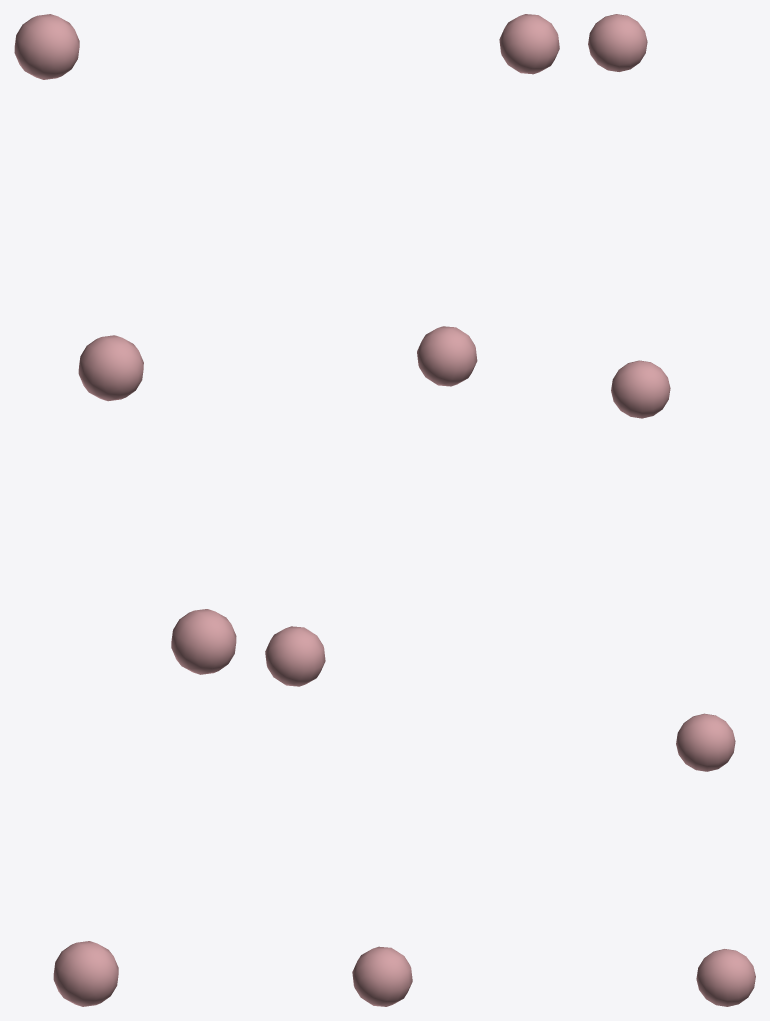
3 renders of one model, left to right at view 1: azimuth 30°, elevation 25°; view 2: azimuth 150°, elevation 25°; view 3: azimuth 270°, elevation 25°, orthographic. The views are drawn at different scales.
Visible parts, largest first — view 1: ZA_7084a7439281b4b4; view 2: ZA_7084a7439281b4b4; view 3: ZA_7084a7439281b4b4.
Boxes of the visible parts, x1,y1,x2,y2 form: ZA_7084a7439281b4b4: (14, 14, 236, 1006); ZA_7084a7439281b4b4: (265, 14, 559, 1006); ZA_7084a7439281b4b4: (588, 14, 755, 1006).
Size of the model in its own units: 0.0119 by 0.0454 by 0.00732.
